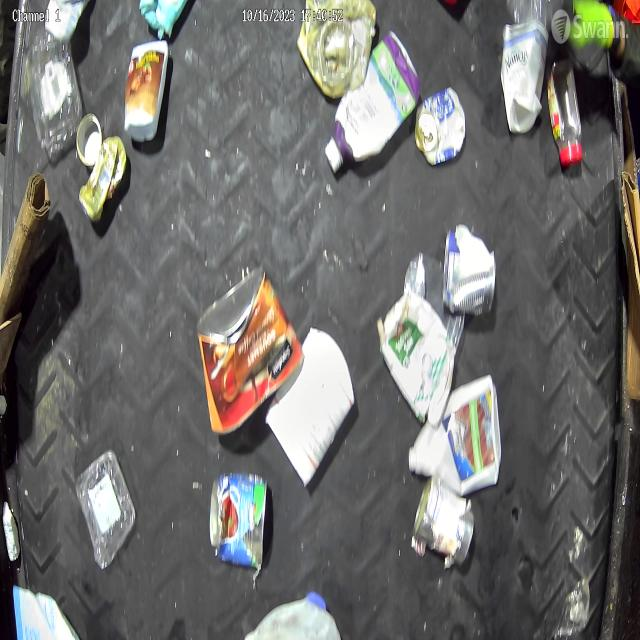can: (198, 268, 302, 443), (208, 470, 277, 581), (439, 230, 499, 322), (79, 132, 134, 225), (414, 479, 473, 564)
milk_jug: (410, 372, 507, 506), (247, 582, 341, 640)
non_white_jug: (325, 31, 422, 178)
plastic_bottle: (19, 0, 87, 163)
